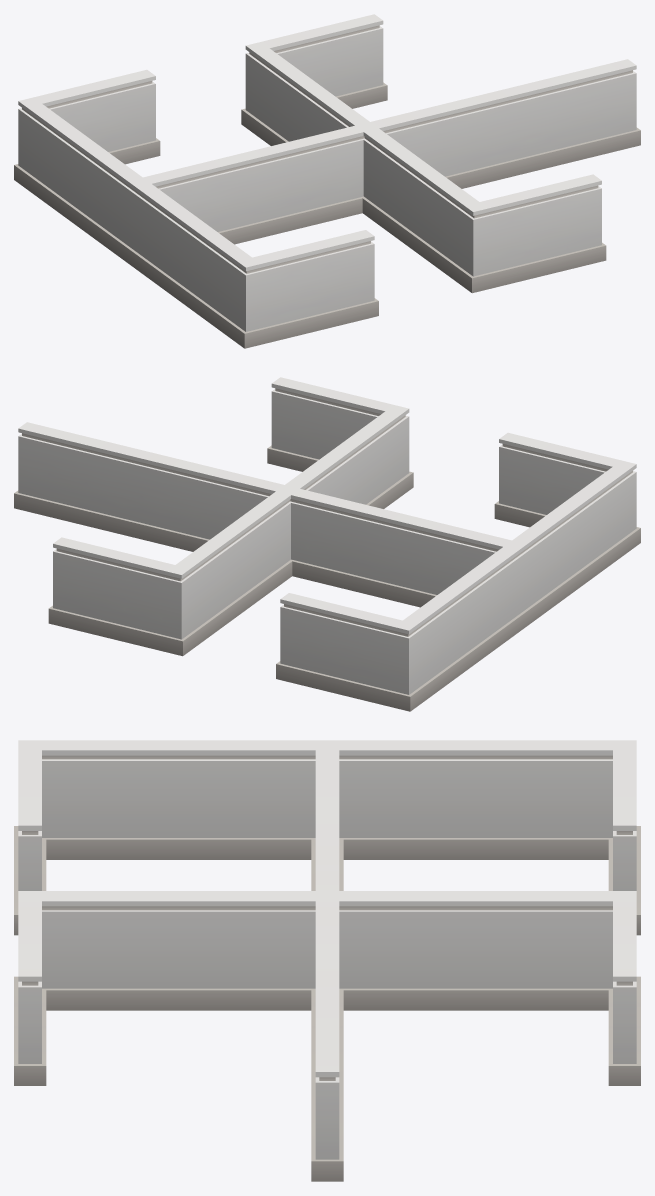
File: BoothSet_A.fbx
3 renders of one model, top to bottom at view 1: azimuth 30°, elevation 25°; view 2: azimuth 150°, elevation 25°; view 3: azimuth 270°, elevation 25°, orthographic. The views are drawn at different scales.
Visible parts, largest first — view 1: BoothSet_A; view 2: BoothSet_A; view 3: BoothSet_A.
Part boxes in pixels (<box>): BoothSet_A: <box>14,14,640,348</box>; BoothSet_A: <box>14,377,640,711</box>; BoothSet_A: <box>14,740,640,1181</box>.
Bounding box in the file's own units: 667 × 100 × 527.
